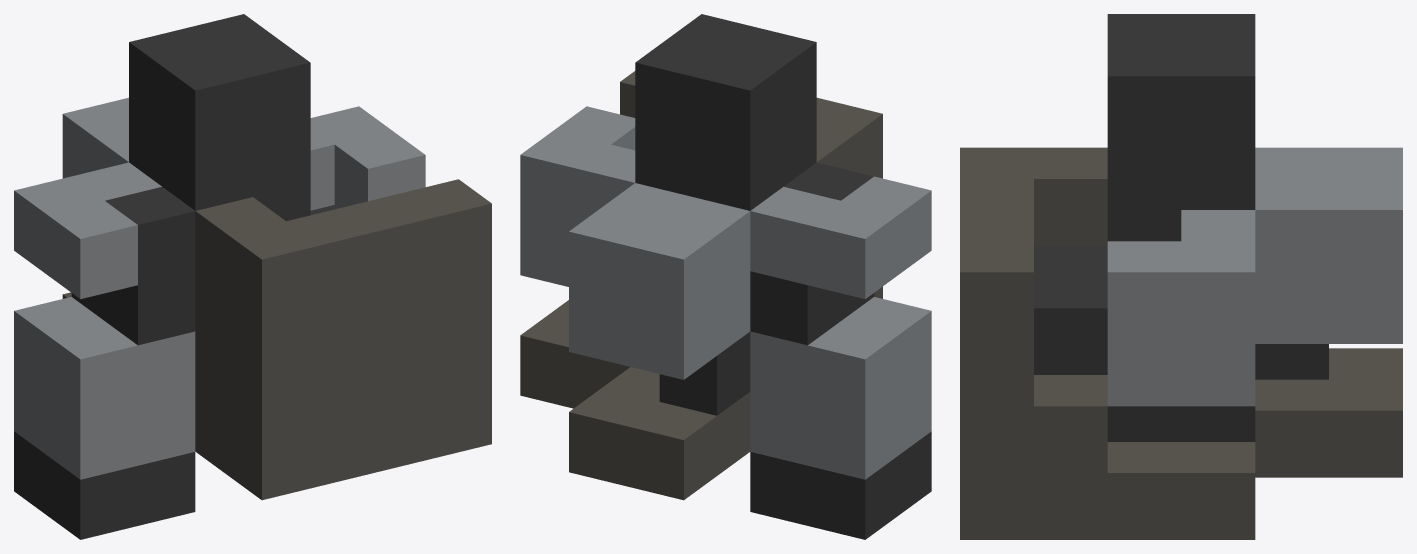
The model's file is Mecha01_right_thigh.obj.
3 renders of one model, left to right at view 1: azimuth 30°, elevation 25°; view 2: azimuth 150°, elevation 25°; view 3: azimuth 270°, elevation 25°, orthographic. The views are drawn at different scales.
Bounding box in the file's own units: 0.6 × 0.7 × 0.6.
Materials: 1 (1 with a texture image).
